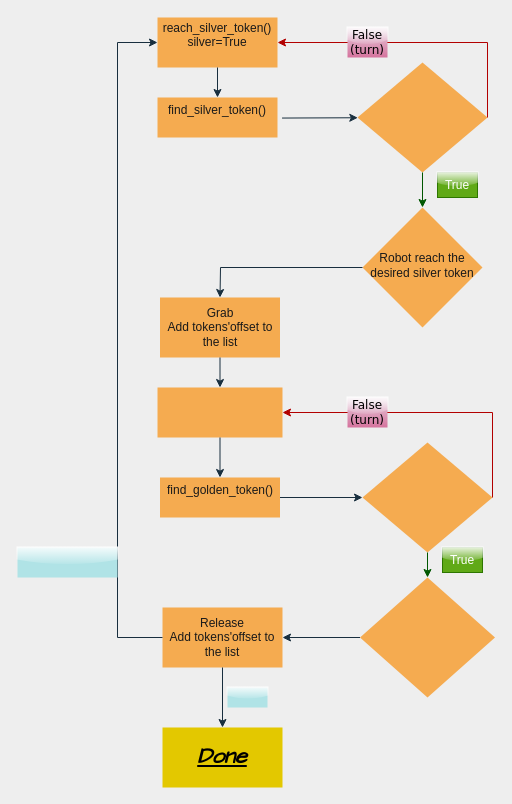
The diagram is 512 pixels wide and 804 high, and some of its shapes have lost their labels. Here are the shapes that lost their labels. From the top down, the centre of each, then its label:
At (x=422, y=117): "dist<100 & token_offset not in silver_list".
At (x=219, y=412): "reach_golden_token() silver = False".
At (x=427, y=497): "dist<100 & token_offset not in golden_list".
At (x=67, y=562): "if len(token_list) < 6".
At (x=427, y=637): "Robot reach the desired golden token".
At (x=247, y=697): "else".
